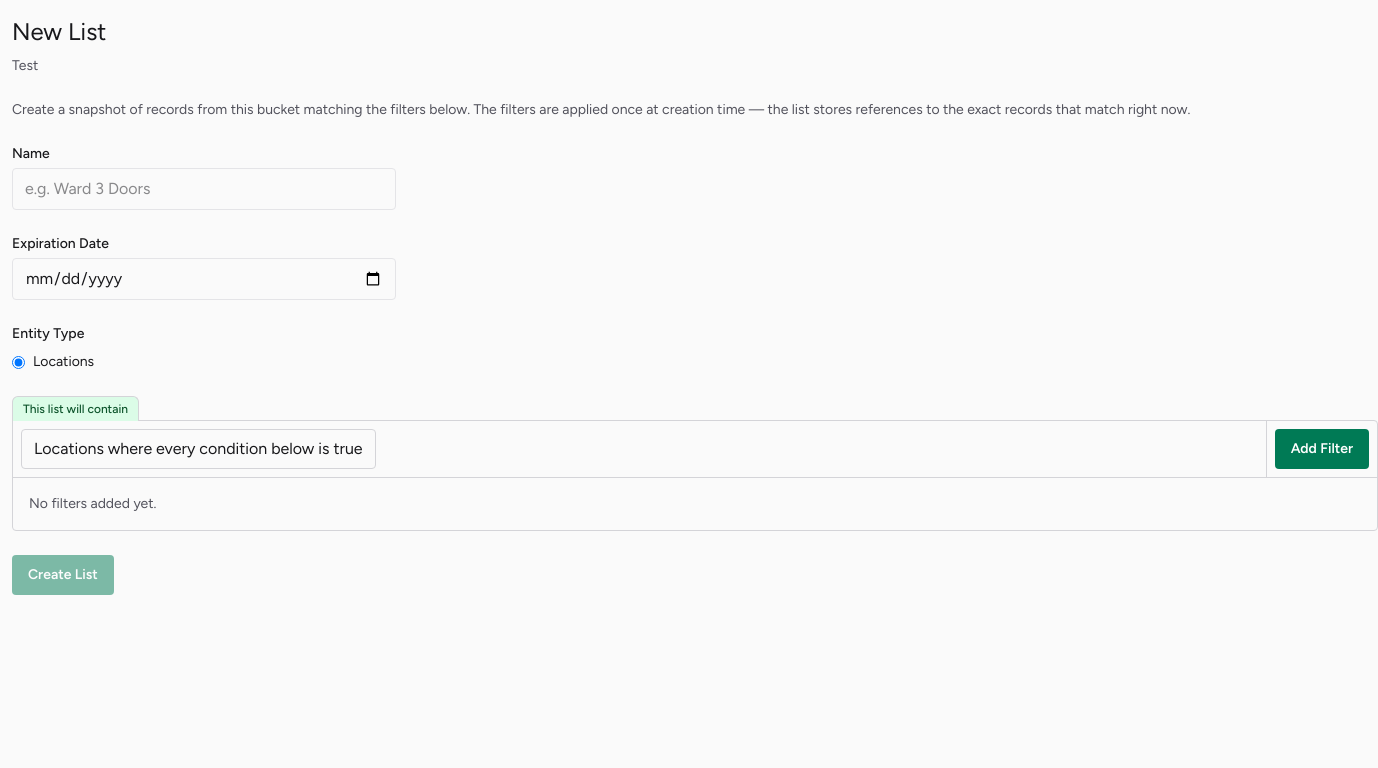
Test case: shows the error when creating fails
In the field labelled "Name": coordinates (204, 189) [12,168,396,210], type "List"
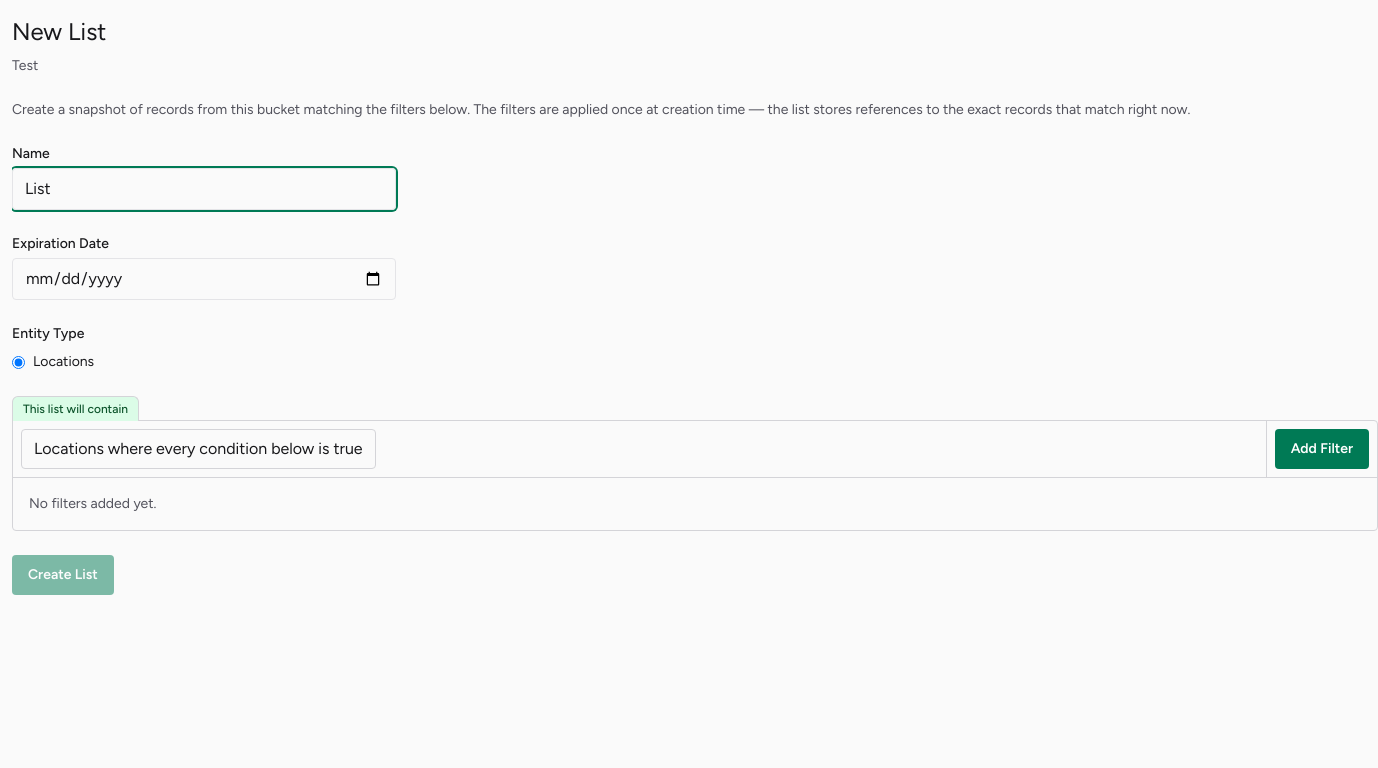
In the date field labelled "Expiration Date": coordinates (204, 279) [12,258,396,300], type "2027-01-01"
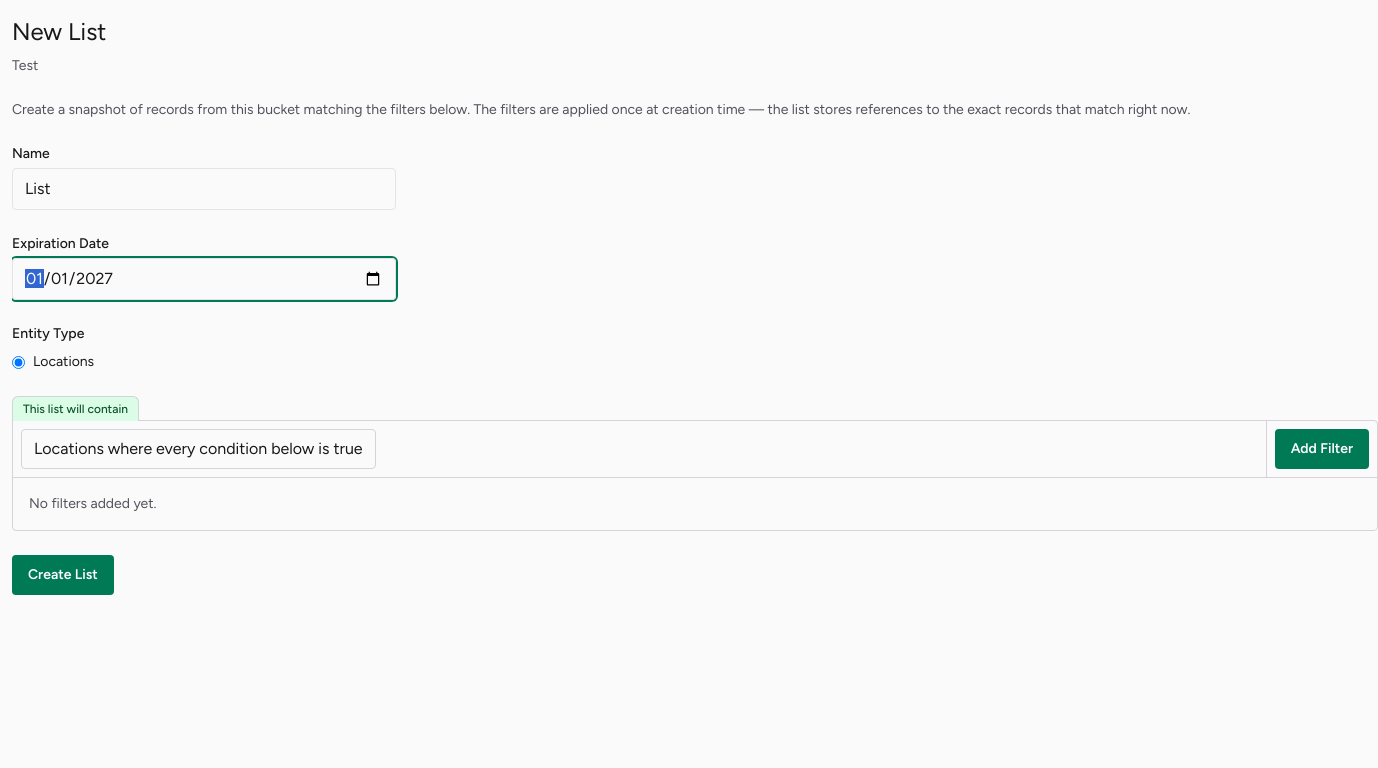
Click the button "Create List": coordinates (63, 575) [12,555,114,595]
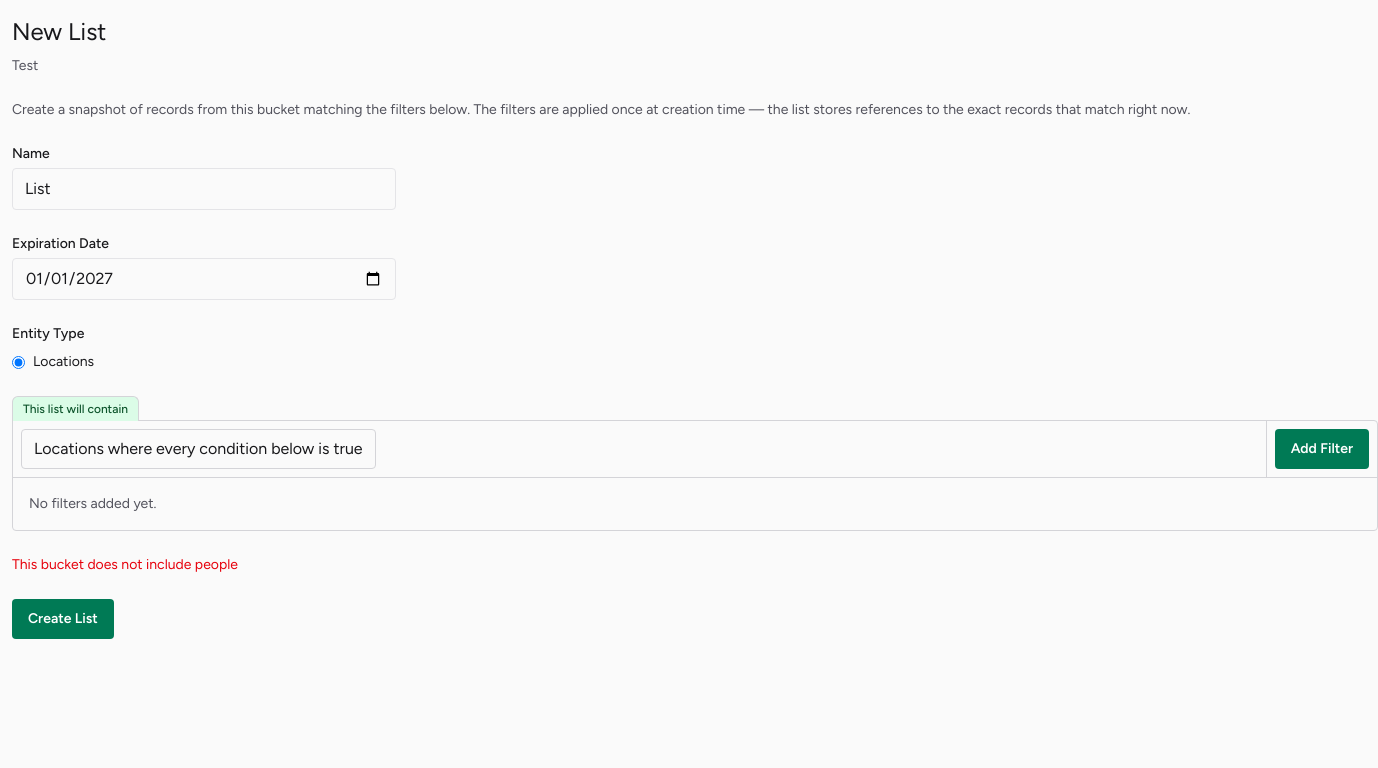
expect the text "This bucket does not include people" is shown: met, box [12,556,238,573]
